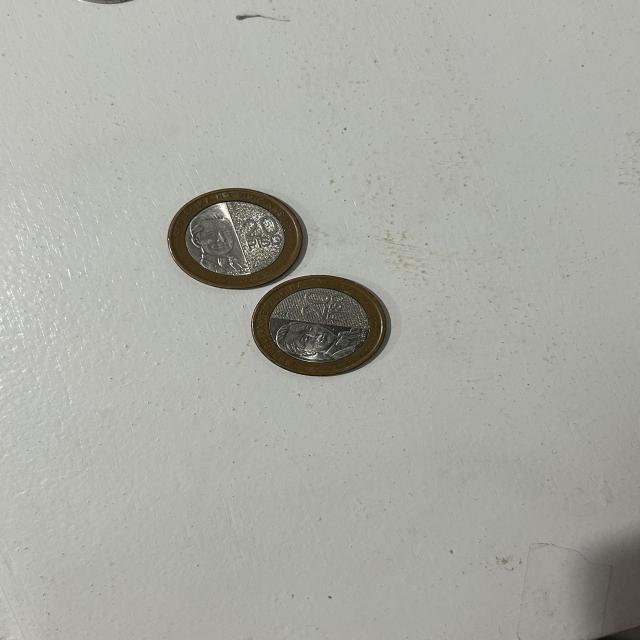20_New_Front: (294, 288, 351, 331), (242, 215, 288, 252)
